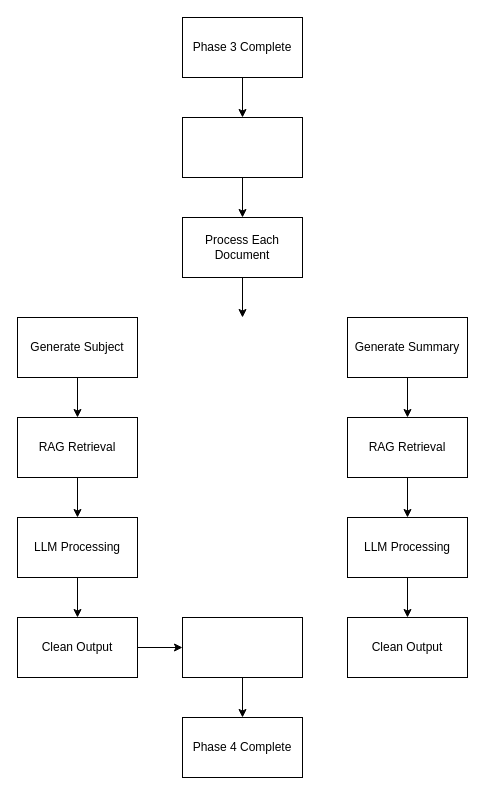
Image size: 485x795. Some labels were removed from this diagram. The shapes that lost their labels are listed below. From the top down, each one's centre as x and y in pixels, then its label:
At (242,147): "Load Phi-3 Model".
At (242,647): "Log Operations".
